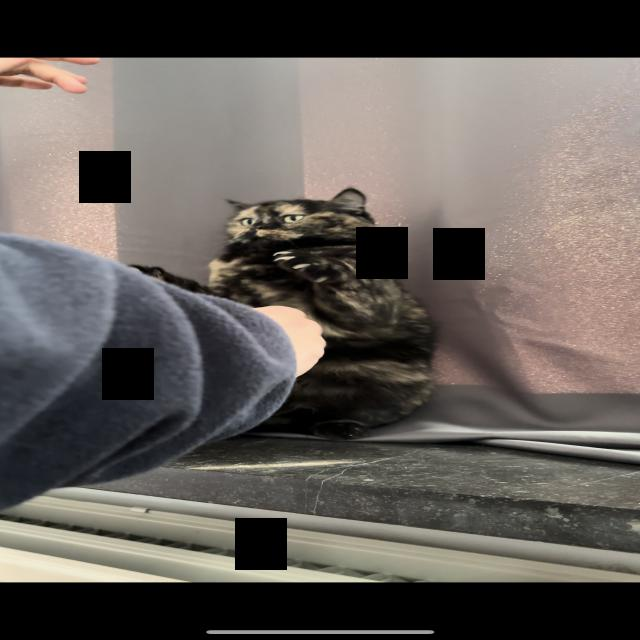authorized: (125, 186, 438, 441)
